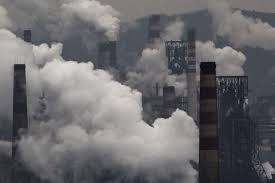smoke: (18, 7, 208, 183)
